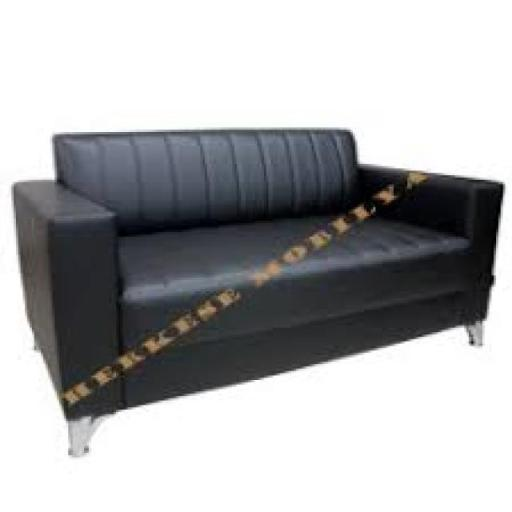sofa: (2, 78, 512, 452)
